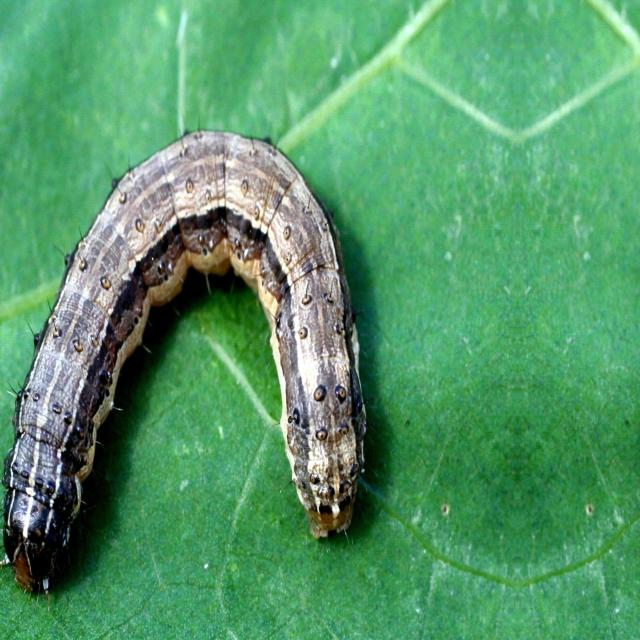Armyworm: (1, 120, 362, 628)
